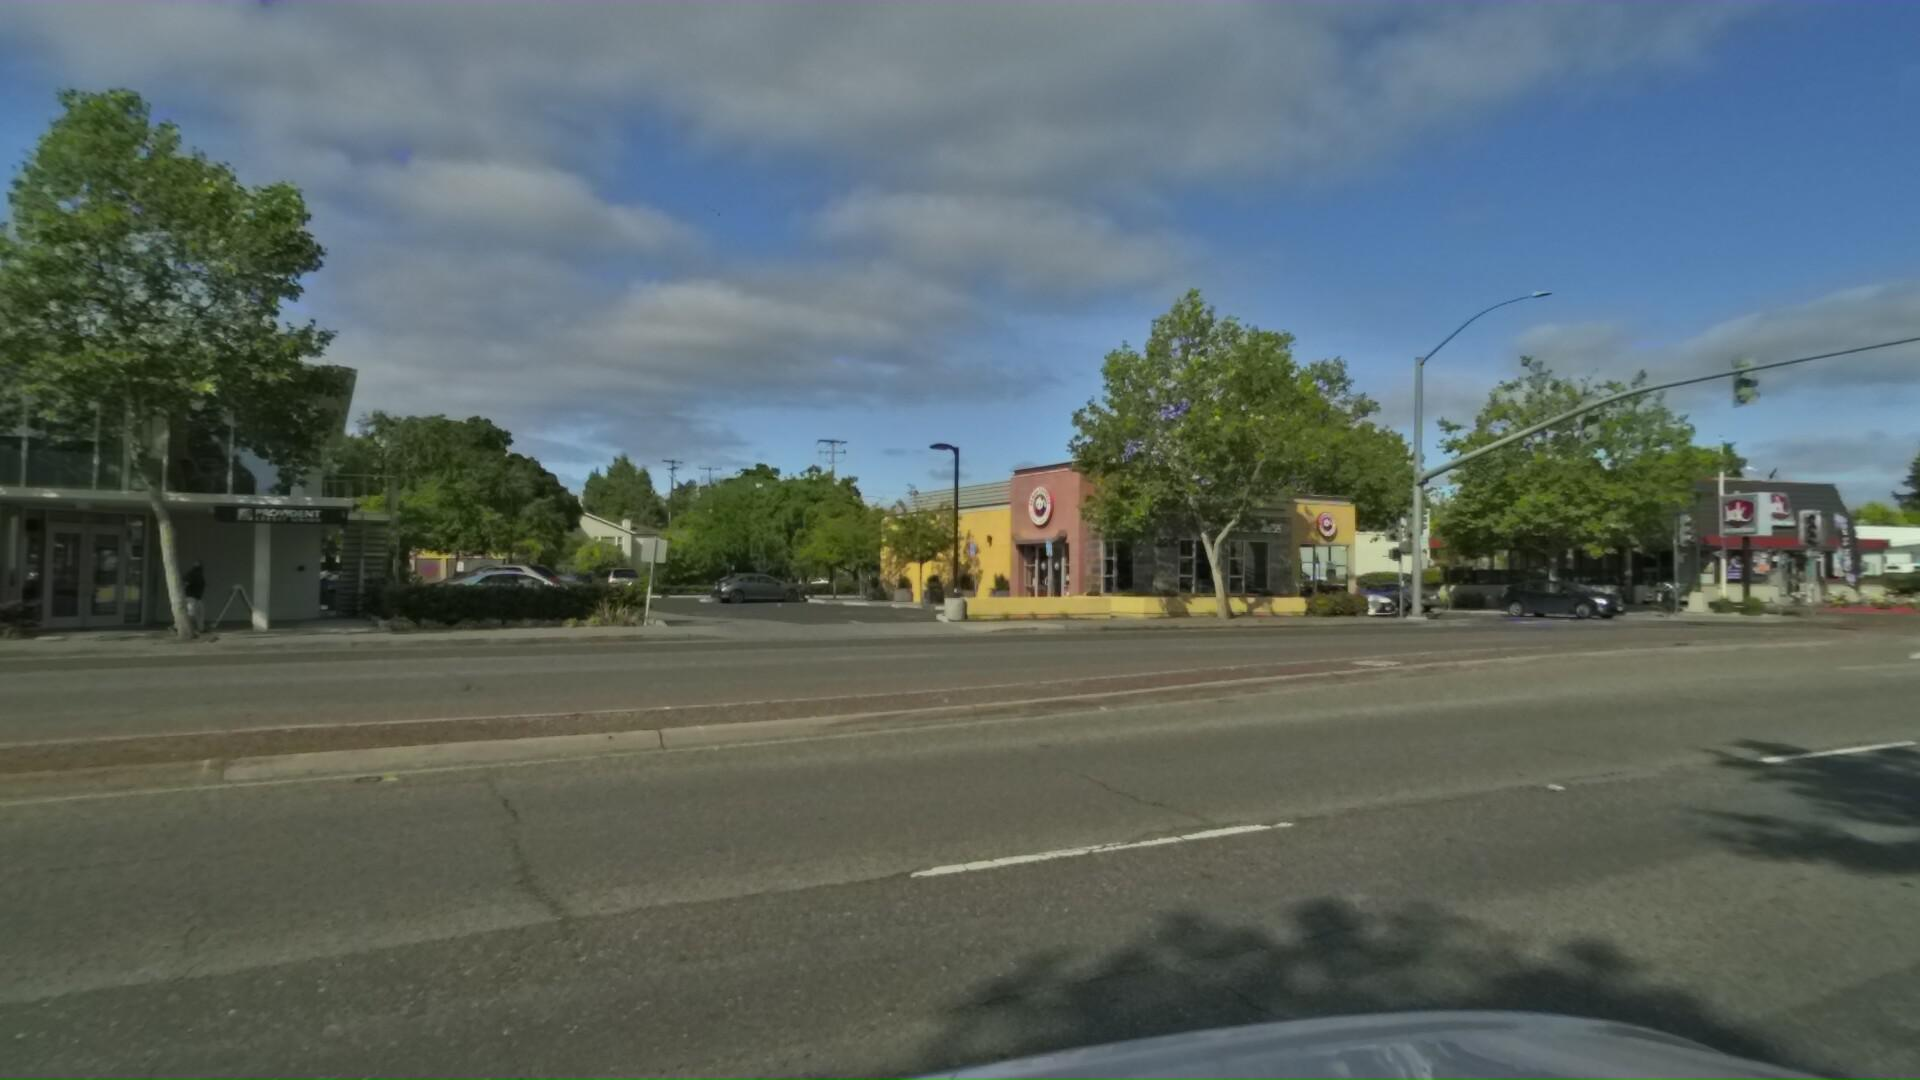car: (1486, 578, 1626, 622), (1276, 579, 1396, 620), (1321, 574, 1425, 613), (1865, 556, 1920, 584)
